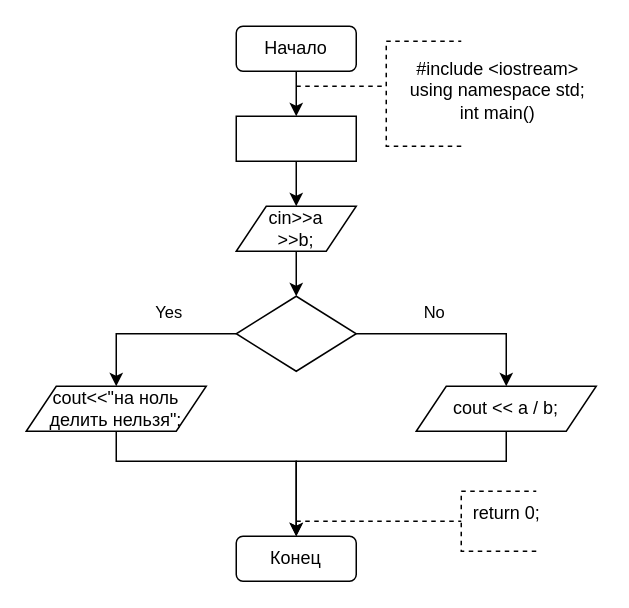
The diagram is 629 pixels wide and 608 high, and some of its shapes have lost their labels. The box of each missing label's shape, as (x1, y1, x2, y2) in pixels:
float a, b;: (235, 115, 356, 161)
if (b == 0): (235, 295, 356, 371)
